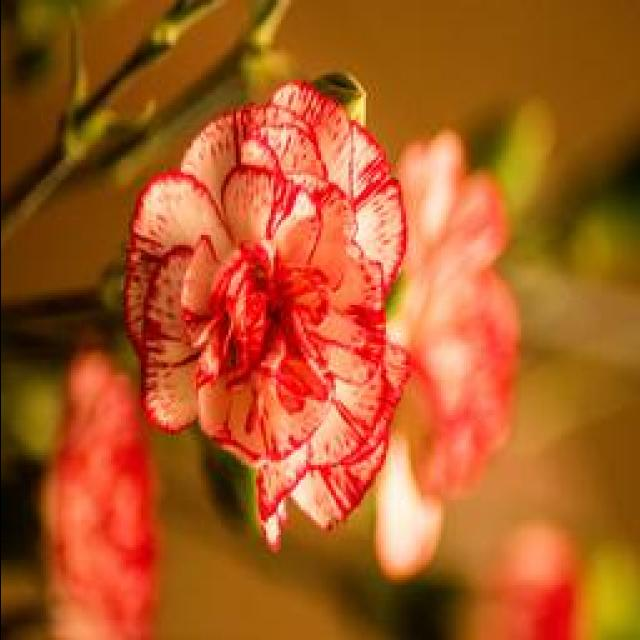carnation: (92, 85, 428, 549)
